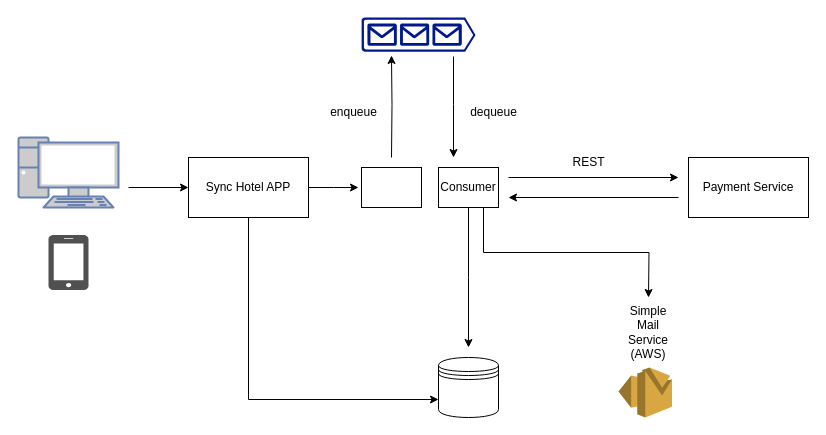
Image size: 826x435. Some labels were removed from this diagram. Each missing label, with the centre of its shape:
DB: the point at 468,387
Producer: the point at 391,187
